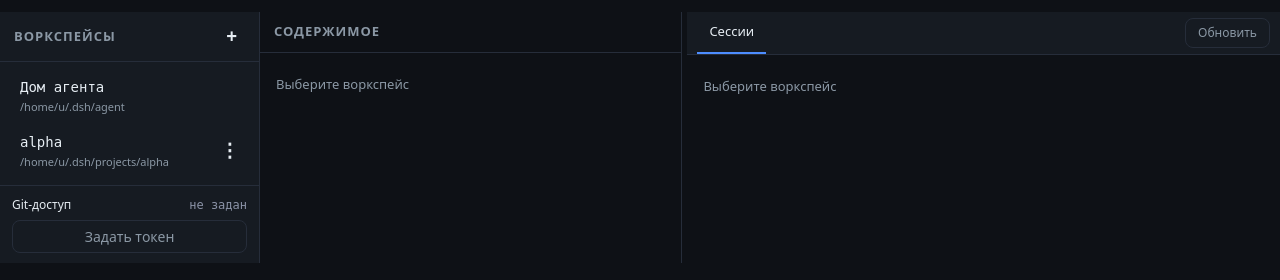
Scenario: WorkspacesPage layout › opens a file from the tree in a right-pane tab
The image size is (1280, 280).
Click the button with test id "ws-row-project:alpha": (107, 151) [8, 124, 206, 177]
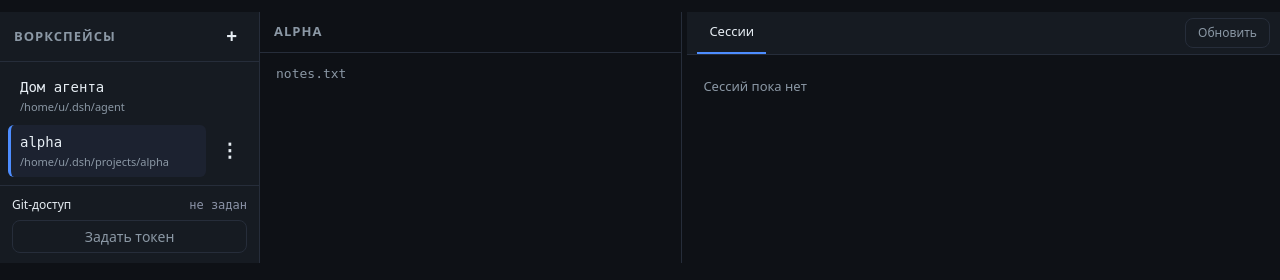
Click the button with test id "tree-file-notes.txt": (311, 73) [266, 60, 675, 86]
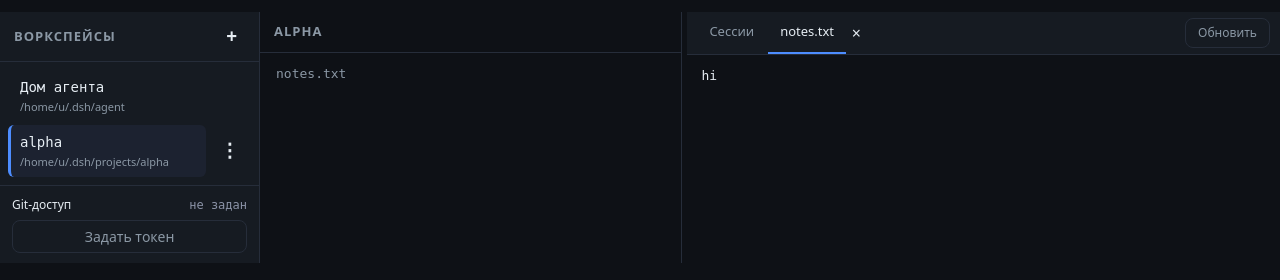
Now the text "hi" is shown, box [701, 68, 717, 82]
